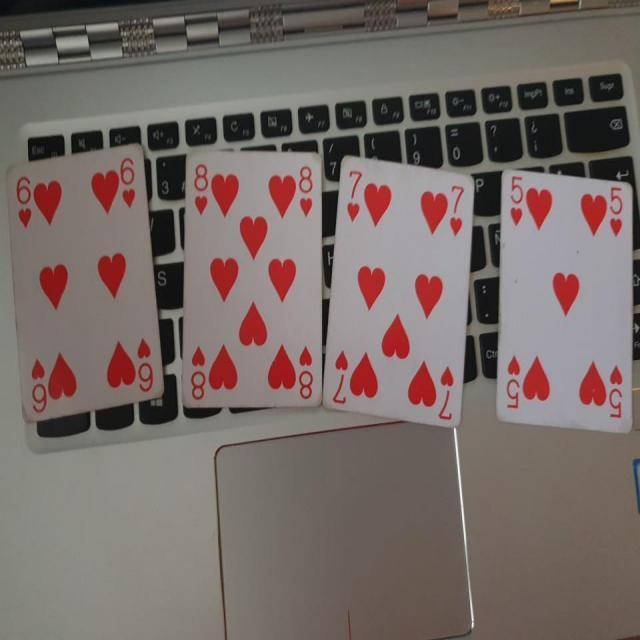5 of hearts: (493, 164, 640, 434)
6 of hearts: (1, 132, 172, 442)
7 of hearts: (322, 149, 478, 434)
8 of hearts: (176, 142, 333, 419)
